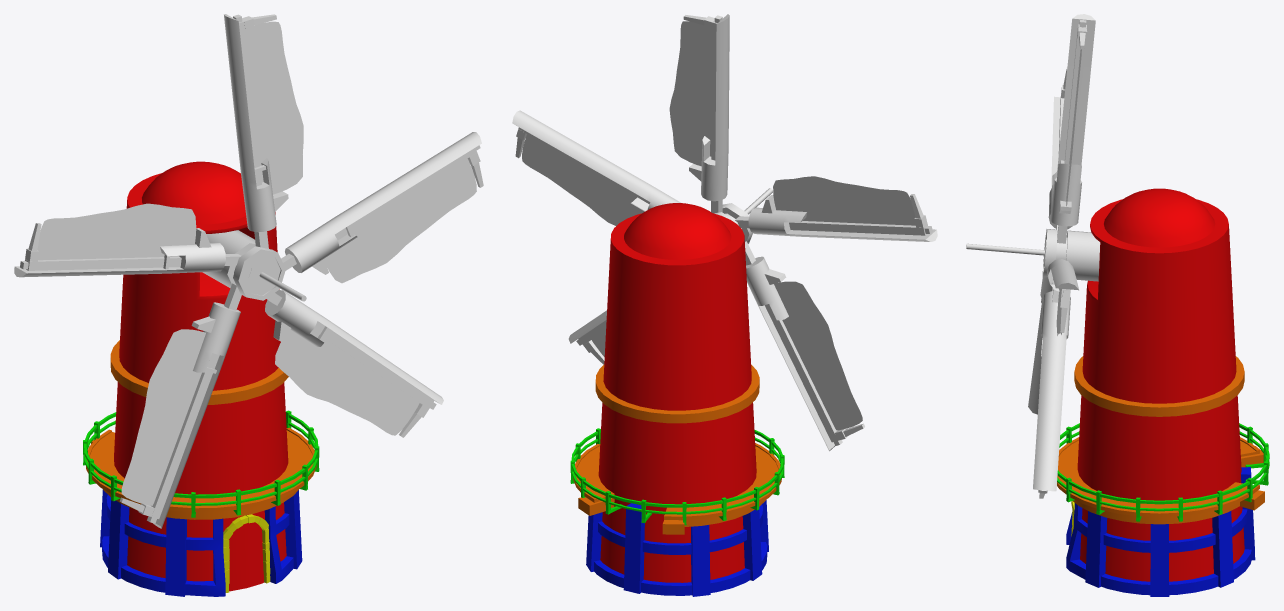
The model's file is Windmill_V02 1.fbx.
3 views of the same model, side by side, from view 1: azimuth 30°, elevation 25°; view 2: azimuth 150°, elevation 25°; view 3: azimuth 270°, elevation 25° (orthographic). The views are drawn at different scales.
Parts seen in each view (by area): view 1: Hastes.002, BaseMoinho, MadeirasBase, MadeirasPrimeiroAndar, Rotor.002, Cerca, PortaPedras; view 2: BaseMoinho, Hastes.002, MadeirasBase, MadeirasPrimeiroAndar, Cerca, Rotor.002; view 3: BaseMoinho, Hastes.002, MadeirasBase, MadeirasPrimeiroAndar, Cerca, Rotor.002.
Boxes of the visible parts, <box> form: Hastes.002: <box>14,14,483,528</box>; BaseMoinho: <box>114,161,288,591</box>; MadeirasBase: <box>100,489,302,596</box>; MadeirasPrimeiroAndar: <box>86,340,316,519</box>; Rotor.002: <box>202,230,306,301</box>; Cerca: <box>83,410,319,517</box>; PortaPedras: <box>223,514,270,592</box>; BaseMoinho: <box>598,203,756,582</box>; Hastes.002: <box>512,14,937,451</box>; MadeirasBase: <box>586,500,768,596</box>; MadeirasPrimeiroAndar: <box>573,364,781,534</box>; Cerca: <box>570,428,784,525</box>; Rotor.002: <box>714,188,772,243</box>; BaseMoinho: <box>1077,188,1244,581</box>; Hastes.002: <box>1028,14,1095,498</box>; MadeirasBase: <box>1066,467,1255,596</box>; MadeirasPrimeiroAndar: <box>1057,356,1264,524</box>; Cerca: <box>1057,423,1269,521</box>; Rotor.002: <box>966,229,1100,281</box>.
Size of the model in its own units: 1104 by 1298 by 667.
